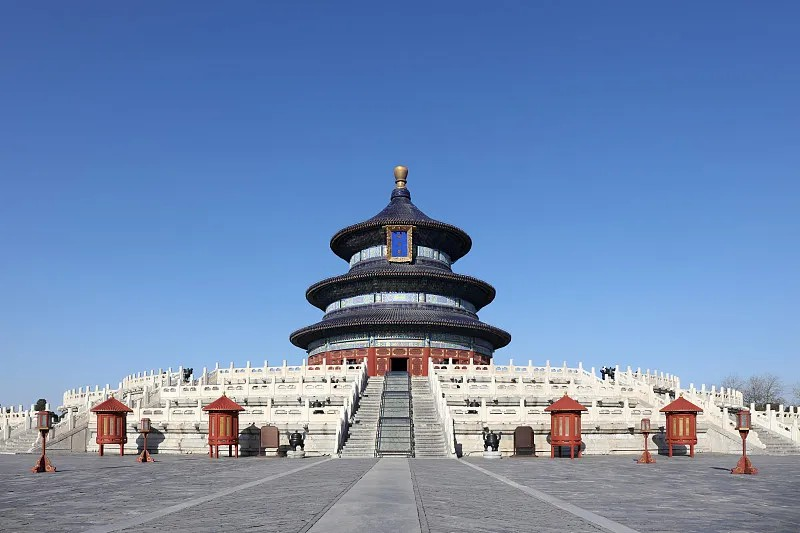Heaven: (289, 166, 511, 377)
